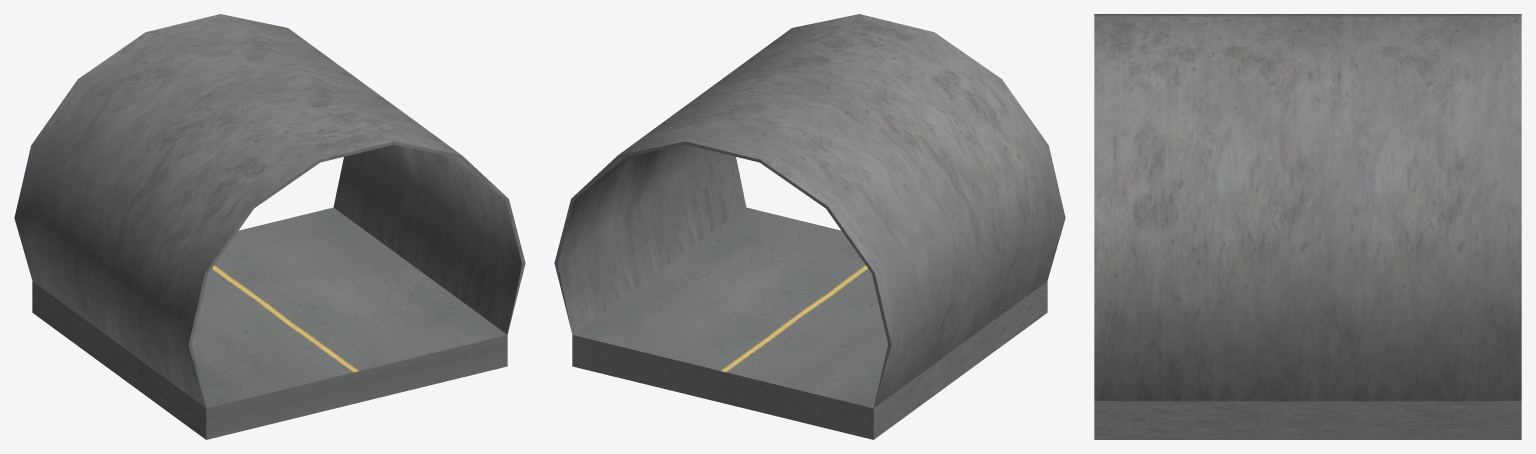
Rendered from tunnelroad.obj.
The picture shows the model from 3 angles, left to right: view 1: azimuth 30°, elevation 25°; view 2: azimuth 150°, elevation 25°; view 3: azimuth 270°, elevation 25°; orthographic projection. The views are drawn at different scales.
Visible parts, largest first — view 1: Mesh; view 2: Mesh; view 3: Mesh.
Boxes of the visible parts, x1,y1,x2,y2 form: Mesh: [14, 14, 525, 439]; Mesh: [554, 14, 1065, 439]; Mesh: [1094, 14, 1521, 439].
Size of the model in its own units: 1.12 by 0.8008 by 1.
